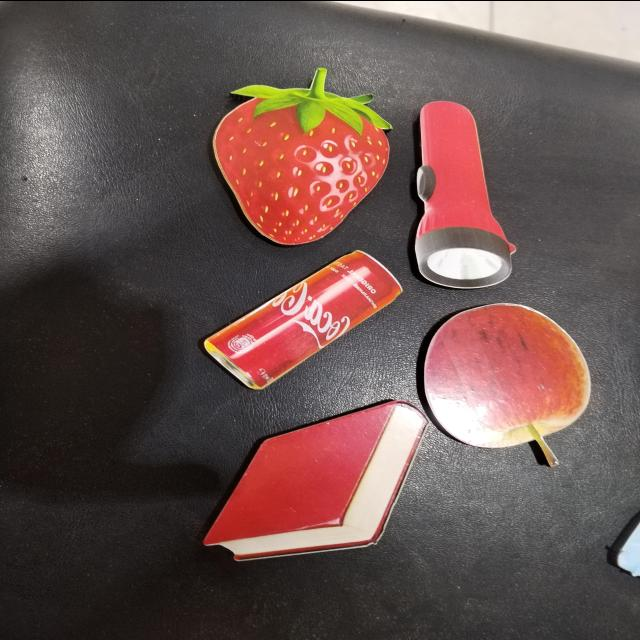Other Objects: (198, 243, 414, 394), (422, 302, 592, 466), (413, 100, 519, 289)
